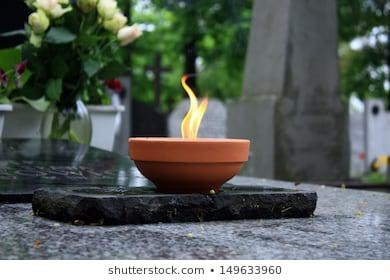fire: (170, 74, 208, 140)
